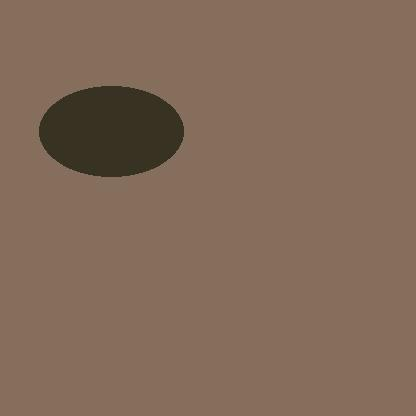pothole: (39, 86, 183, 176)
